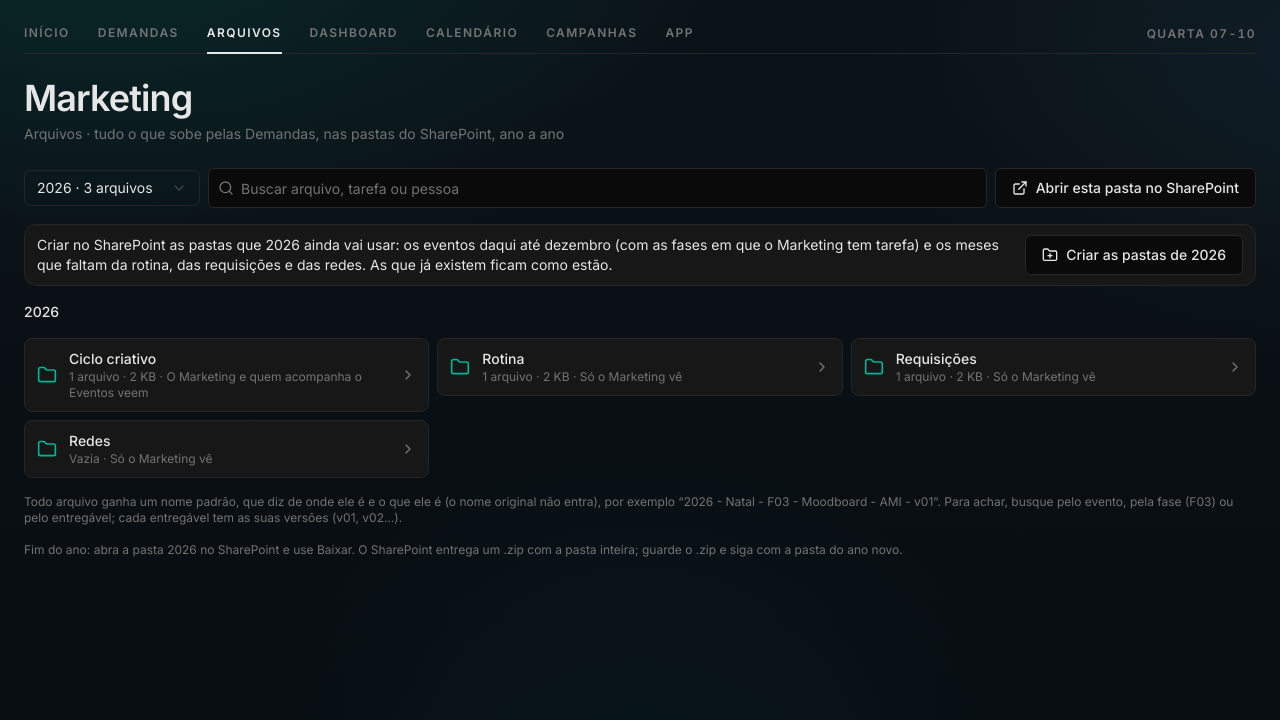
a página › o SharePoint recusou no meio: o motivo aparece; e quem não é o líder nem vê o botão
What coordinates should you click on to do the following:
click the button "Criar as pastas de 2026"
I would click on:
 (1134, 255)
Its box is [1025,235,1243,275].
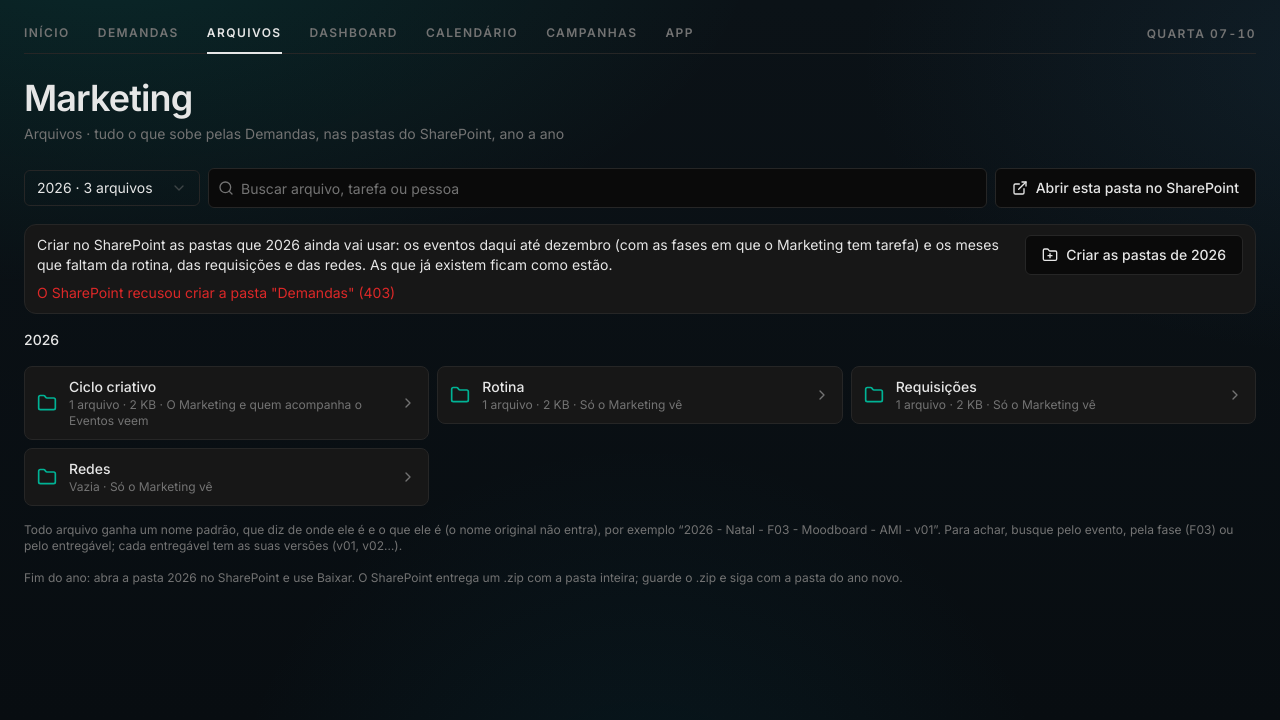
Now the message shows "recusou criar a pasta", box [37,284,395,301]
